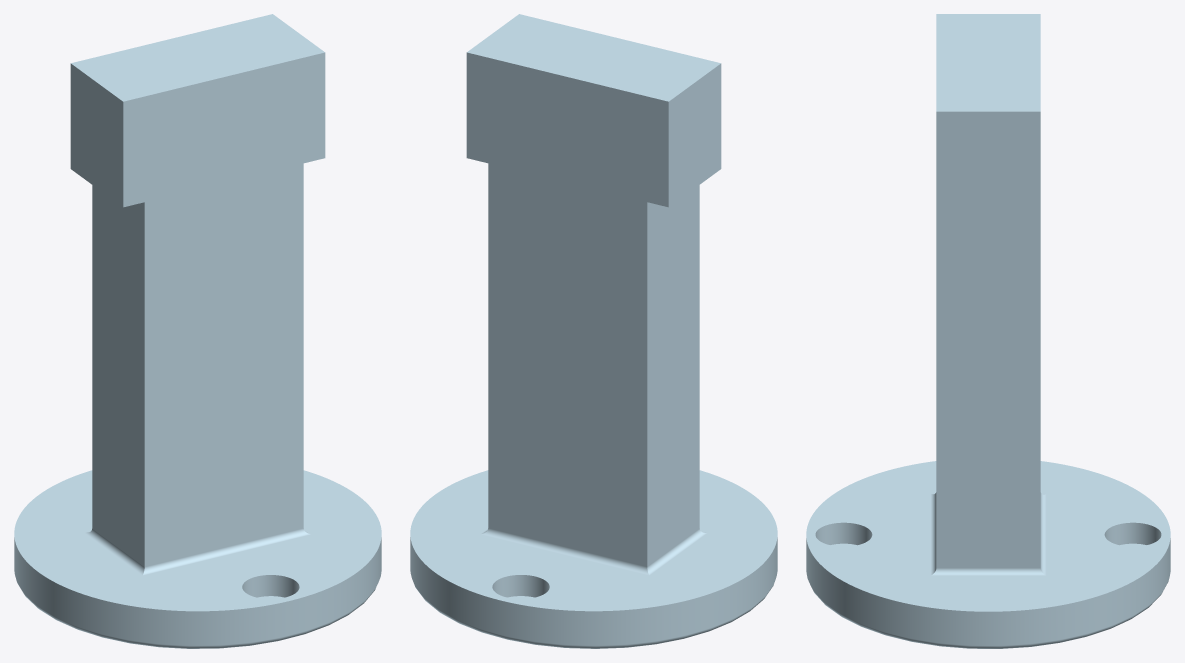
Rendered from hand-custom.dae.
The picture shows the model from 3 angles, left to right: view 1: azimuth 30°, elevation 25°; view 2: azimuth 150°, elevation 25°; view 3: azimuth 270°, elevation 25°; orthographic projection.
Visible parts, largest first — view 1: ID2; view 2: ID2; view 3: ID2.
Part boxes in pixels (x1=…): ID2: x1=14, y1=14, x2=381, y2=648; ID2: x1=410, y1=14, x2=777, y2=648; ID2: x1=806, y1=14, x2=1170, y2=648.
Bounding box in the file's own units: 0.063 × 0.063 × 0.102.
